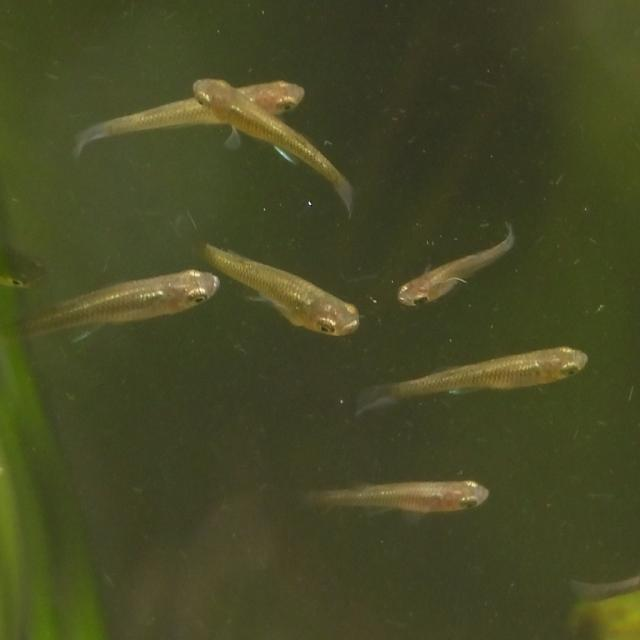Sivrisinek Baligi: (184, 72, 362, 220), (184, 234, 359, 342), (355, 339, 591, 414), (10, 268, 230, 336), (394, 216, 518, 312), (302, 472, 492, 525)
